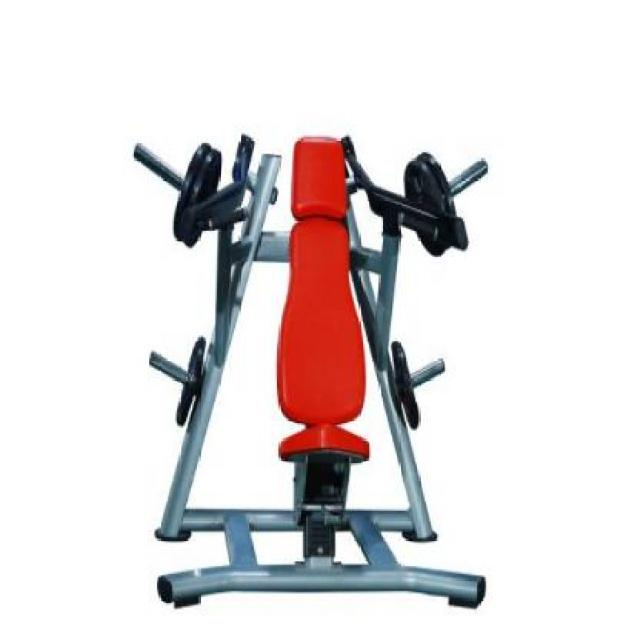shoulder press machine: (132, 139, 492, 623)
